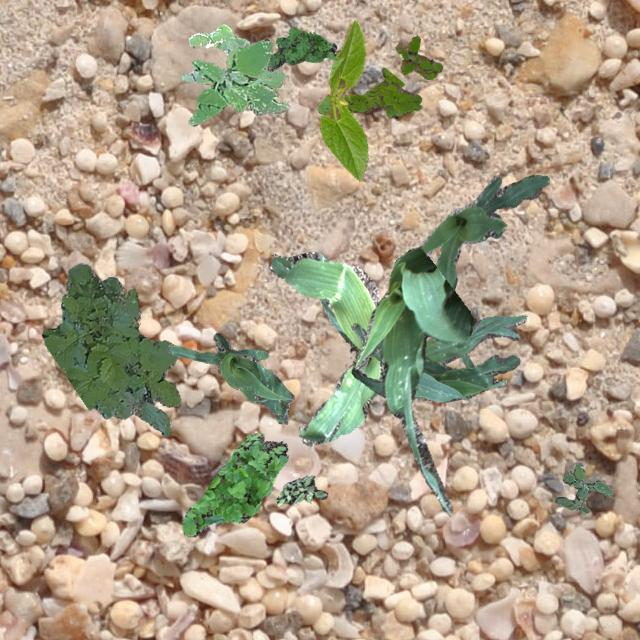crop: (354, 247, 474, 512), (418, 175, 548, 366), (270, 250, 386, 444), (165, 332, 292, 422), (350, 314, 526, 364), (351, 354, 518, 401), (318, 19, 366, 180)
weed: (40, 262, 180, 436), (182, 432, 286, 536), (188, 38, 288, 125), (180, 24, 284, 90), (316, 66, 420, 116), (266, 26, 336, 70), (554, 462, 612, 512), (394, 34, 442, 78), (276, 474, 326, 504)
